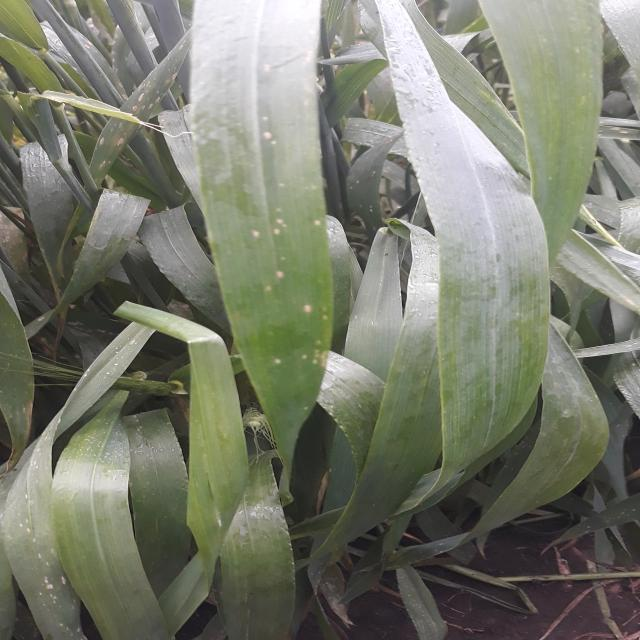powder_mildew: (186, 2, 350, 459), (0, 425, 95, 640), (81, 53, 181, 188), (0, 200, 79, 317), (601, 113, 640, 150)
